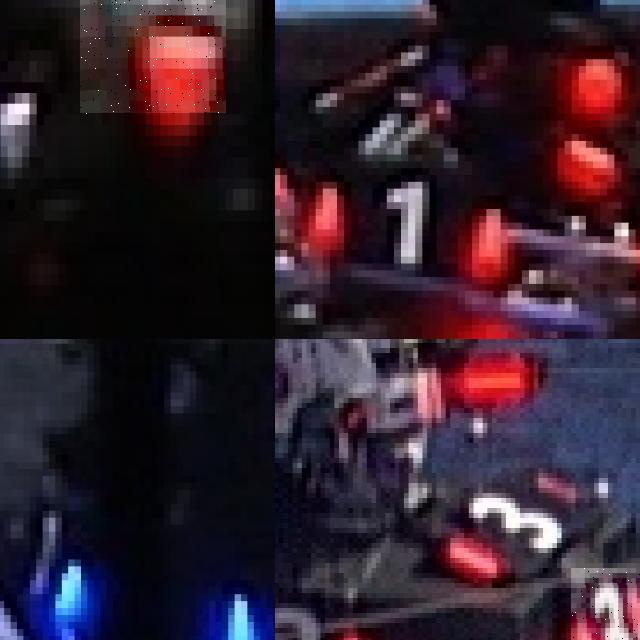B1: (0, 504, 93, 629), (209, 549, 275, 640)
R1: (302, 168, 508, 277), (564, 86, 640, 168)
R3: (80, 0, 225, 114), (571, 568, 640, 640), (275, 603, 362, 640)
